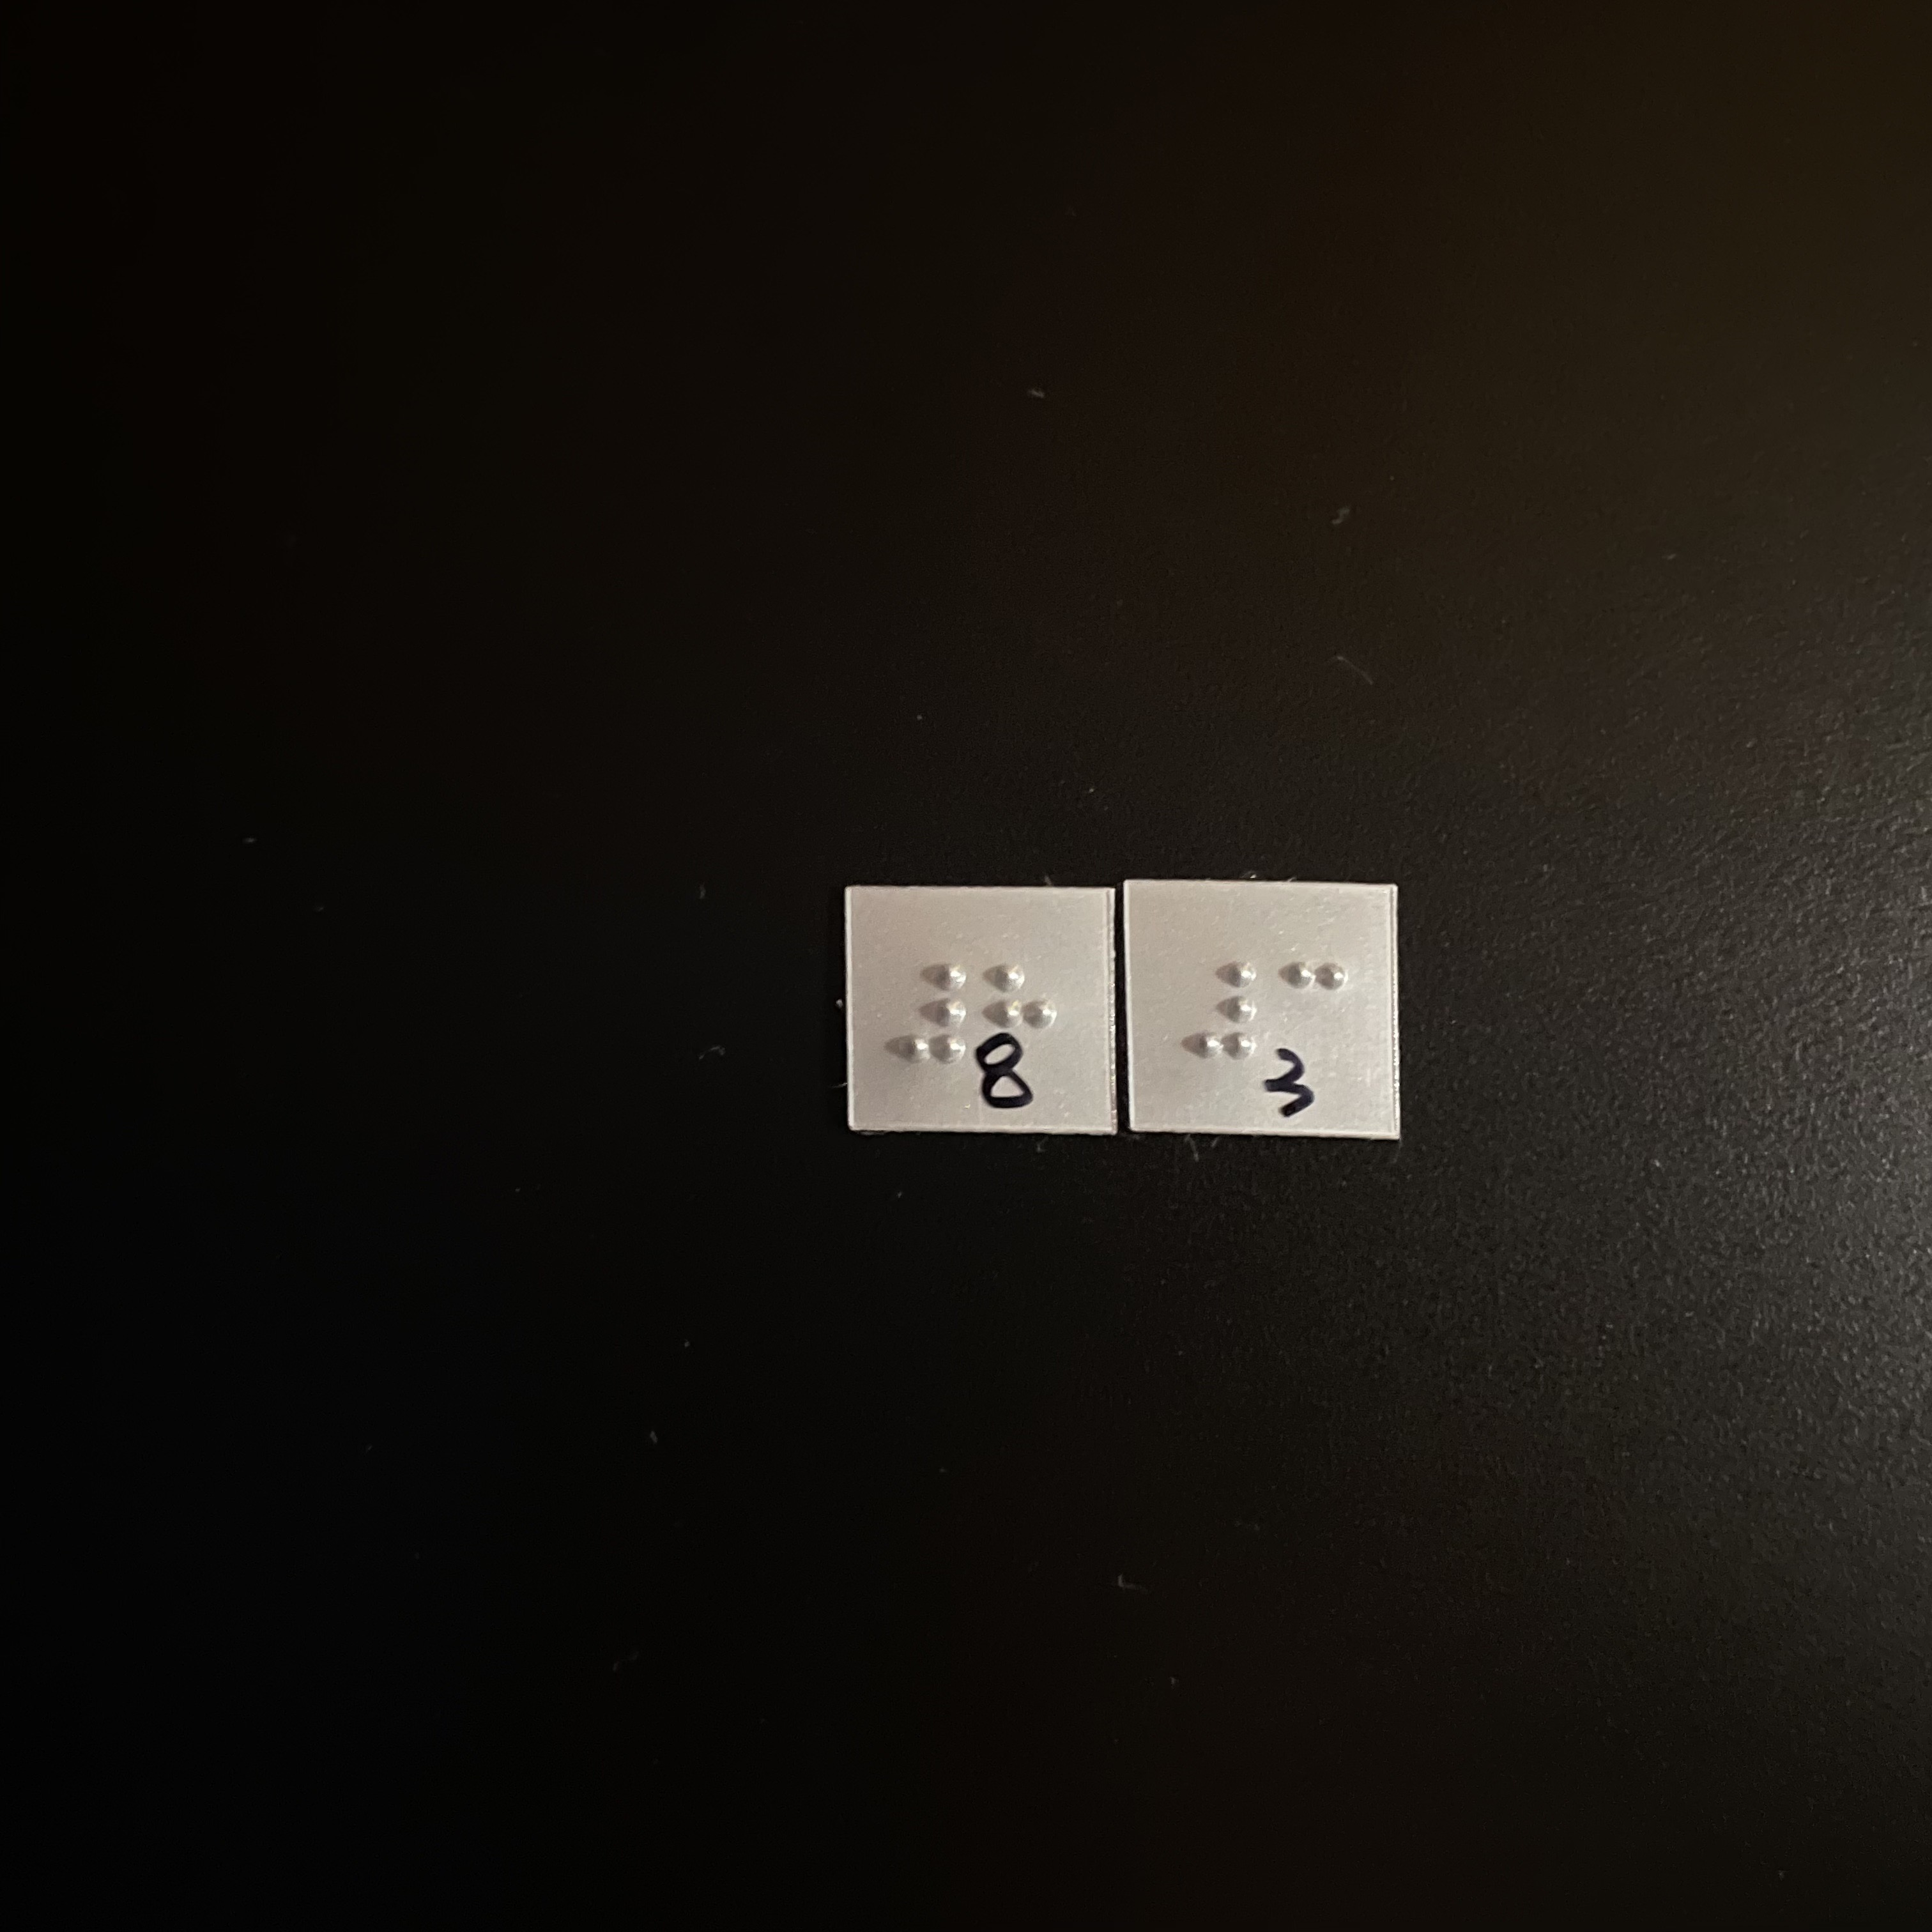#: (886, 960, 974, 1073), (1181, 956, 1267, 1068)
c: (1267, 956, 1358, 1068)
h: (983, 958, 1060, 1077)
